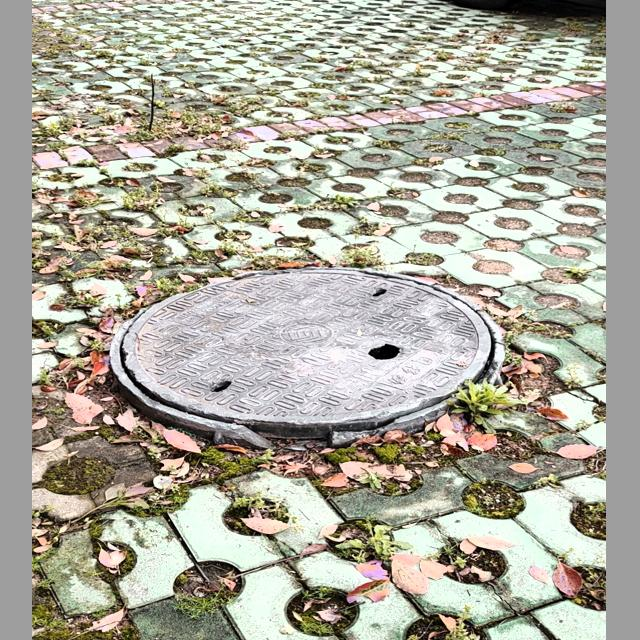broke: (108, 264, 509, 449)
